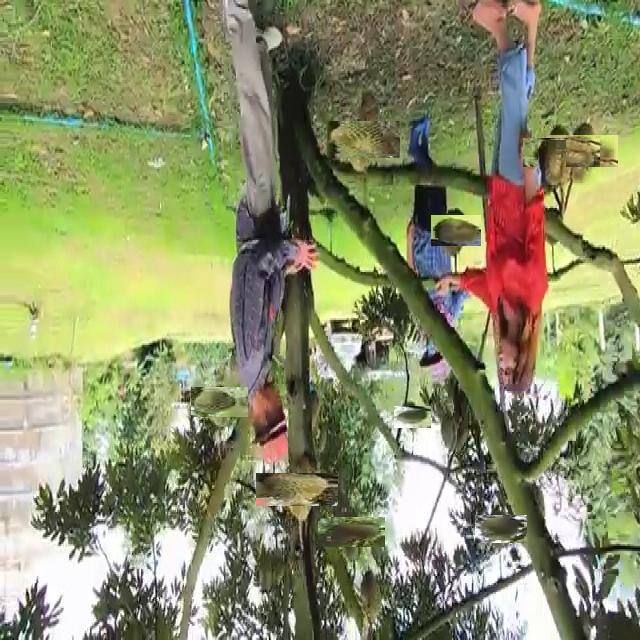durian: (268, 461, 326, 519), (336, 111, 391, 167), (534, 126, 588, 179), (555, 125, 608, 177), (327, 508, 376, 557), (198, 380, 242, 424), (436, 210, 476, 252), (481, 508, 521, 549), (359, 566, 385, 627), (538, 140, 566, 196), (541, 203, 561, 249), (398, 402, 428, 432), (436, 411, 456, 454)
